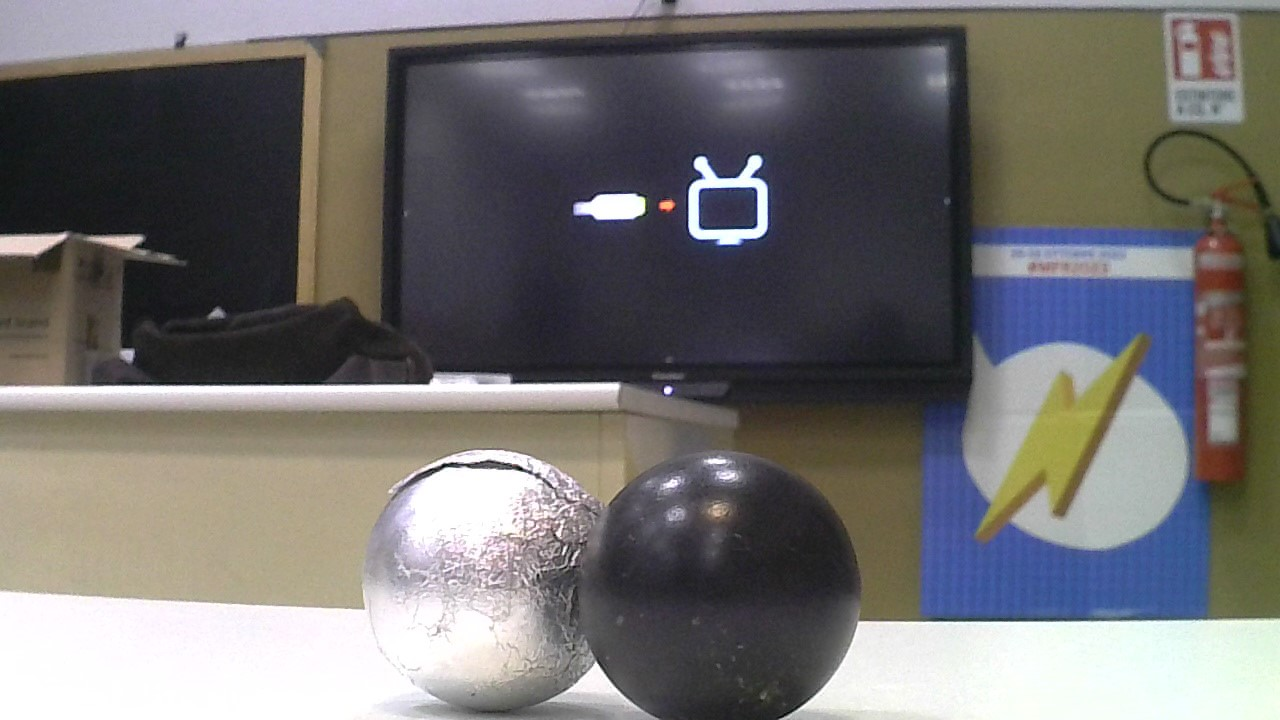black_ball: (577, 441, 862, 716)
silver_ball: (359, 446, 602, 709)
